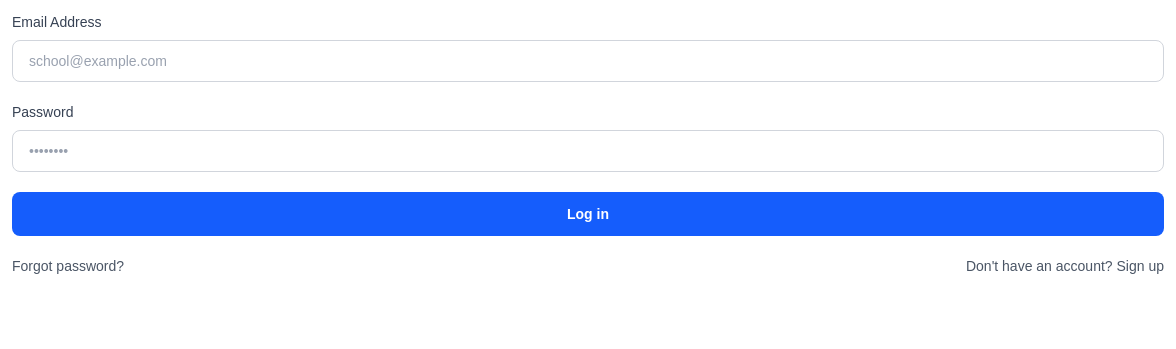
Test: LoginForm › shows error message when both logins fail
Type "wrong@example.com" into the field labelled "Email Address". click: (588, 61)
box: [12, 40, 1164, 82]
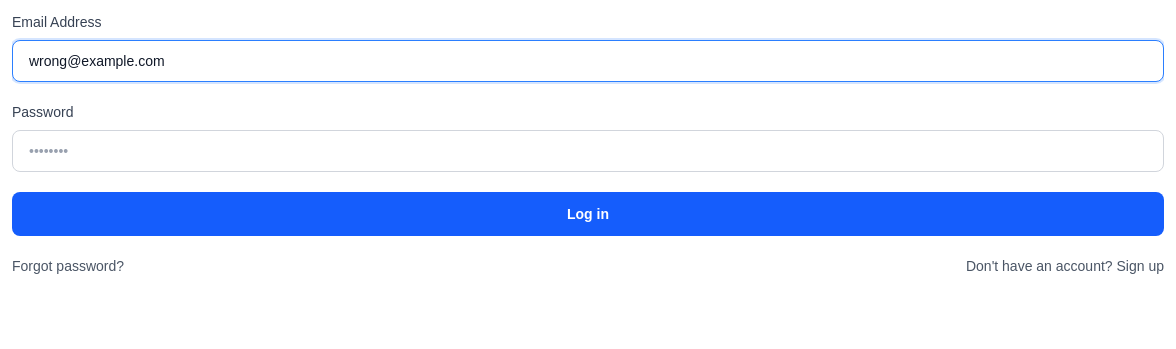
Type "wrongpass" into the password field labelled "Password". click: (588, 151)
box: [12, 130, 1164, 172]
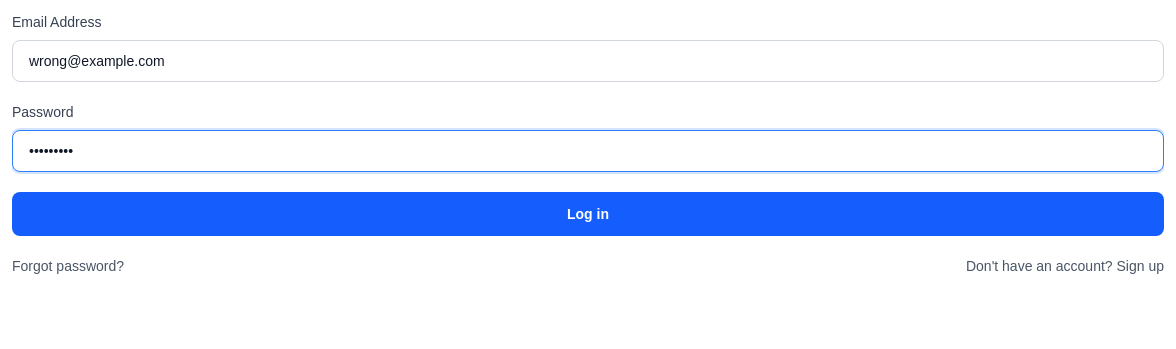
Click the button "Log in". click: (588, 214)
box: [12, 192, 1164, 236]
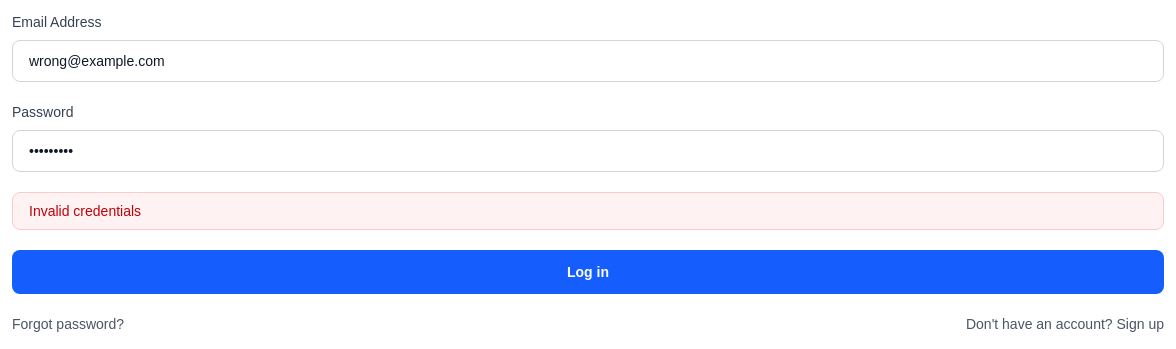
Check: the text "Invalid credentials" is shown, box [12, 192, 1164, 230]
